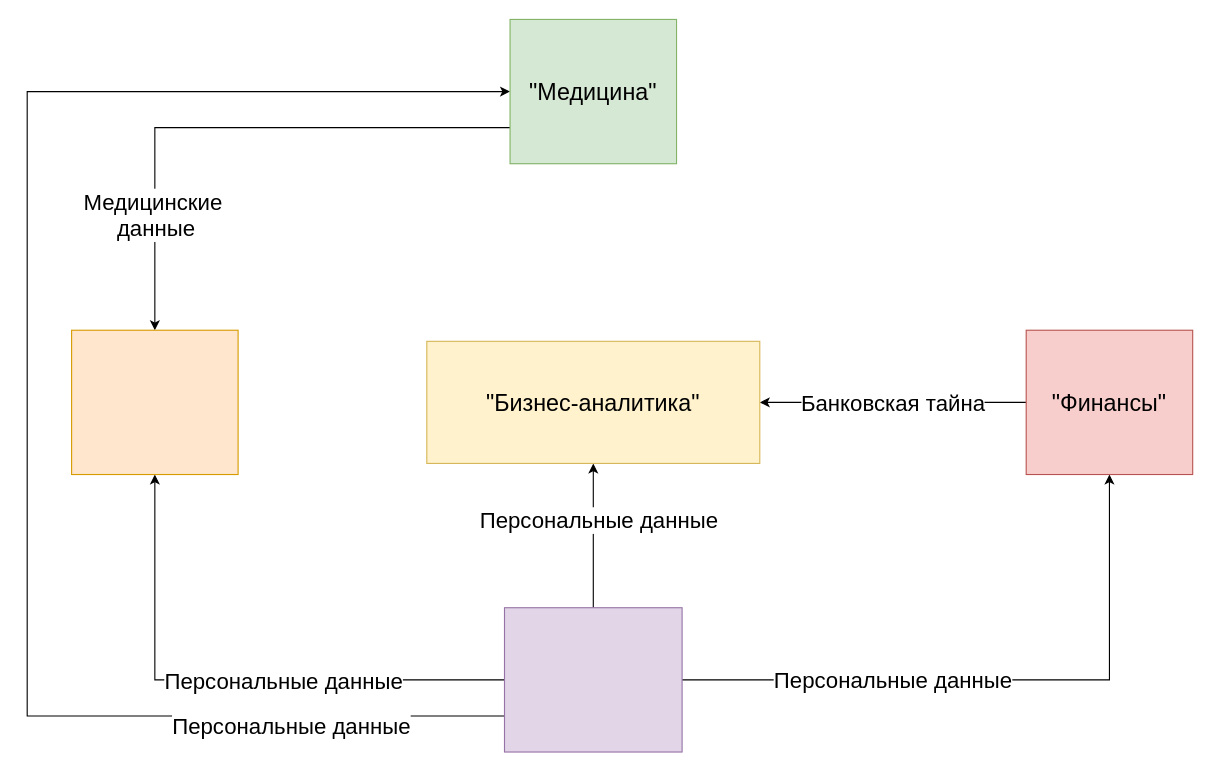
The diagram is 1212 pixels wide and 771 high, and some of its shapes have lost their labels. Each missing label, with the box of its shape:
"Искуственный интелект": (70, 329, 238, 475)
"Клиент": (503, 607, 682, 752)
